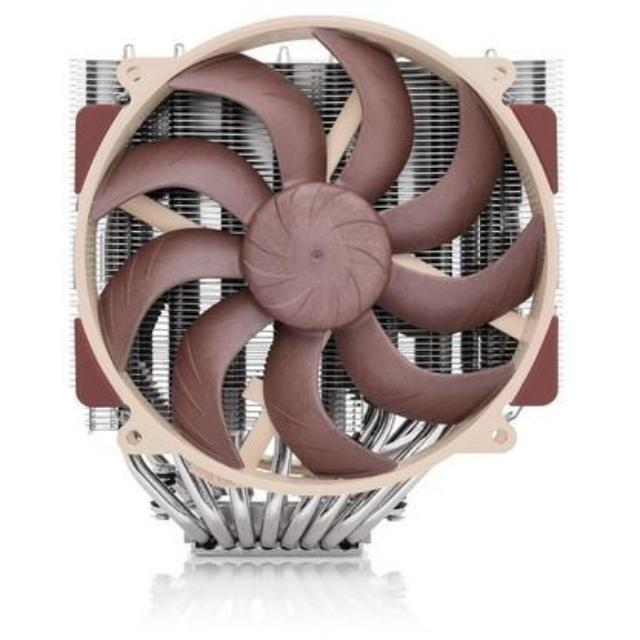CPU_Fan: (72, 10, 570, 579)
